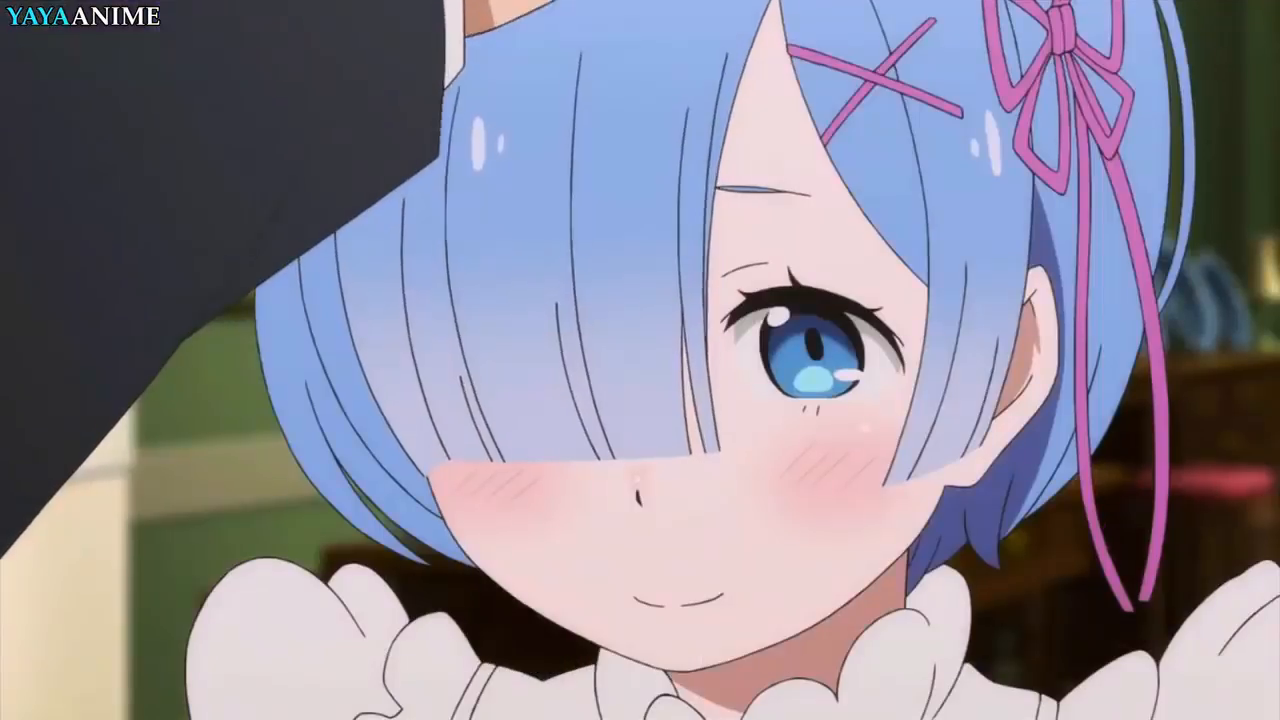REM: (244, 1, 1204, 671)
